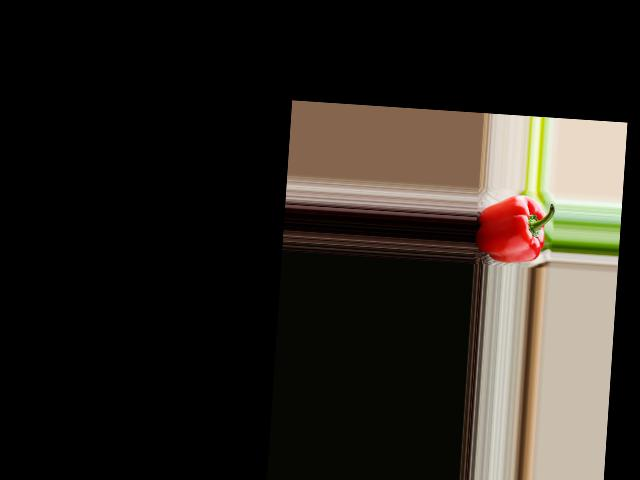bell_pepper: (473, 190, 554, 264)
